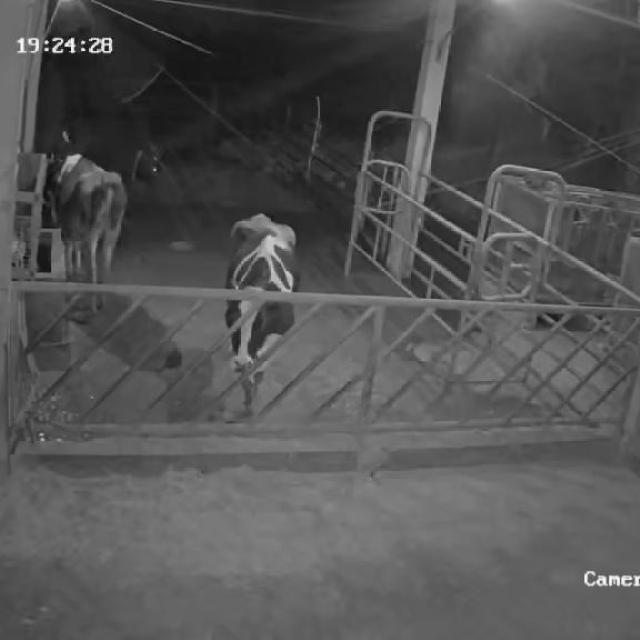standing: (224, 206, 297, 432), (54, 147, 128, 313), (67, 129, 160, 189)
